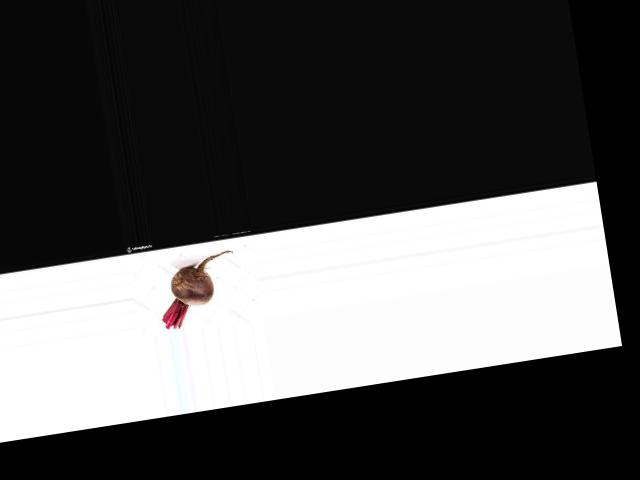beet: (154, 249, 243, 329)
